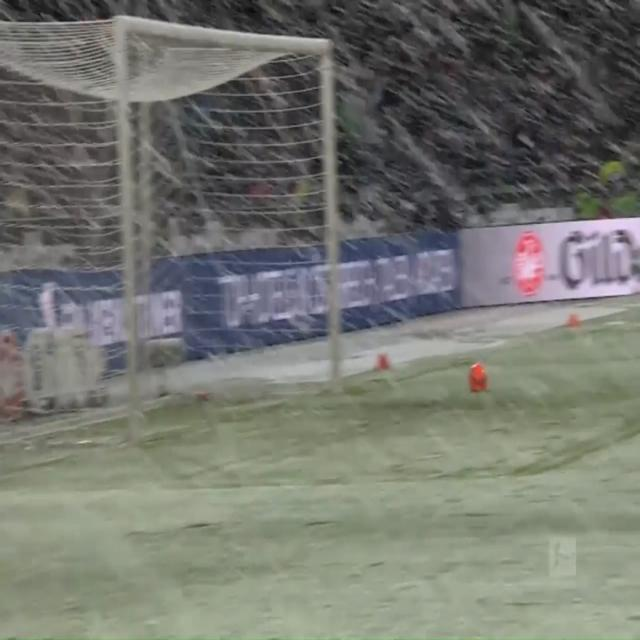ball: (463, 353, 492, 396)
